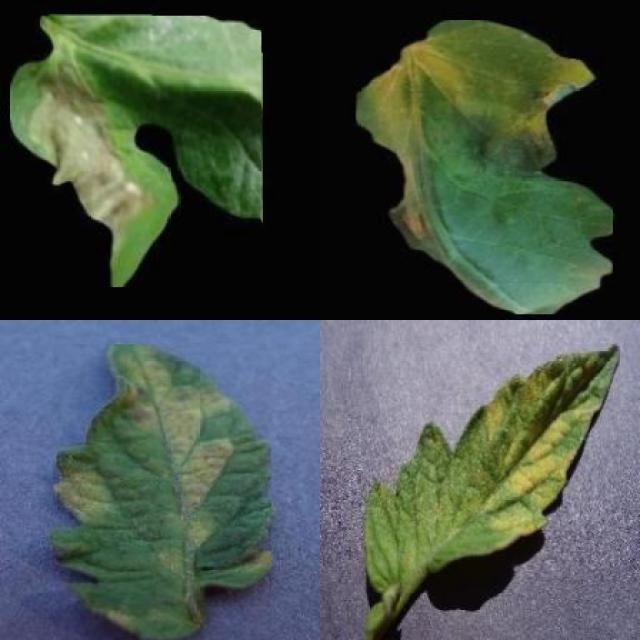Late Blight: (356, 20, 614, 314), (11, 16, 262, 287)
Leaf Mold: (53, 344, 271, 640), (363, 346, 620, 593)
